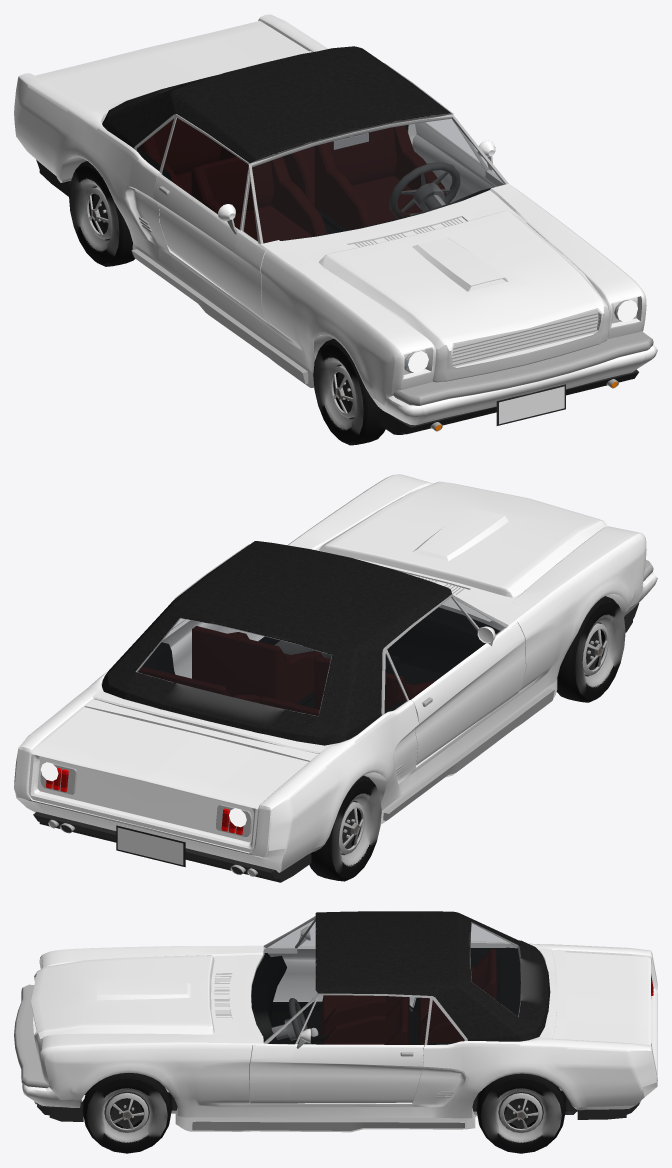
Rendered from sports.glb.
3 renders of one model, top to bottom at view 1: azimuth 30°, elevation 25°; view 2: azimuth 150°, elevation 25°; view 3: azimuth 270°, elevation 25°, orthographic. The views are drawn at different scales.
Visible parts, largest first — view 1: body, wheel_fr, wheel_rr, decal:plateF, glow; view 2: body, wheel_fr, wheel_rr, decal:plateR; view 3: body, wheel_fl, wheel_rl.
Part boxes in pixels (<box>): body: <box>14,14,657,434</box>; wheel_fr: <box>313,338,385,445</box>; wheel_rr: <box>69,161,135,266</box>; decal:plateF: <box>499,386,564,424</box>; glow: <box>408,300,637,373</box>; body: <box>14,474,657,882</box>; wheel_fr: <box>556,596,625,702</box>; wheel_rr: <box>309,775,381,881</box>; decal:plateR: <box>117,827,183,865</box>; body: <box>14,911,657,1132</box>; wheel_fl: <box>81,1073,171,1153</box>; wheel_rl: <box>476,1073,565,1153</box>.
Size of the model in its own units: 1.86 by 1.28 by 4.62.
Materials: 7 (2 with a texture image).
